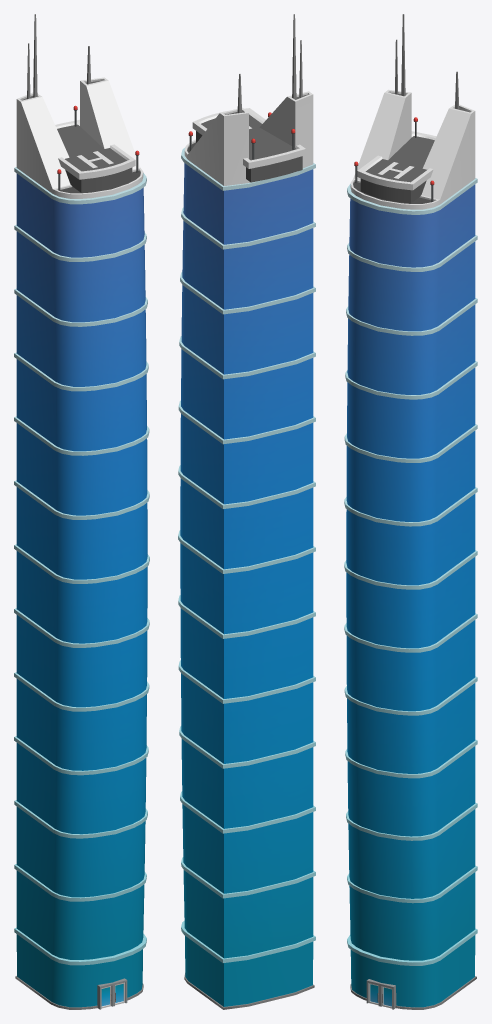
The model's file is skyscraper_002.glb.
3 views of the same model, side by side, from view 1: azimuth 30°, elevation 25°; view 2: azimuth 210°, elevation 25°; view 3: azimuth 330°, elevation 25° (orthographic). The views are drawn at different scales.
Visible parts, largest first — view 1: skyscraper_002; view 2: skyscraper_002; view 3: skyscraper_002.
Boxes of the visible parts, bbox=[...] form: skyscraper_002: bbox=[14, 14, 149, 1009]; skyscraper_002: bbox=[178, 14, 315, 1009]; skyscraper_002: bbox=[344, 14, 477, 1009].
Bounding box in the file's own units: 10.06 × 101 × 12.46.
3 materials, 3 textured.
